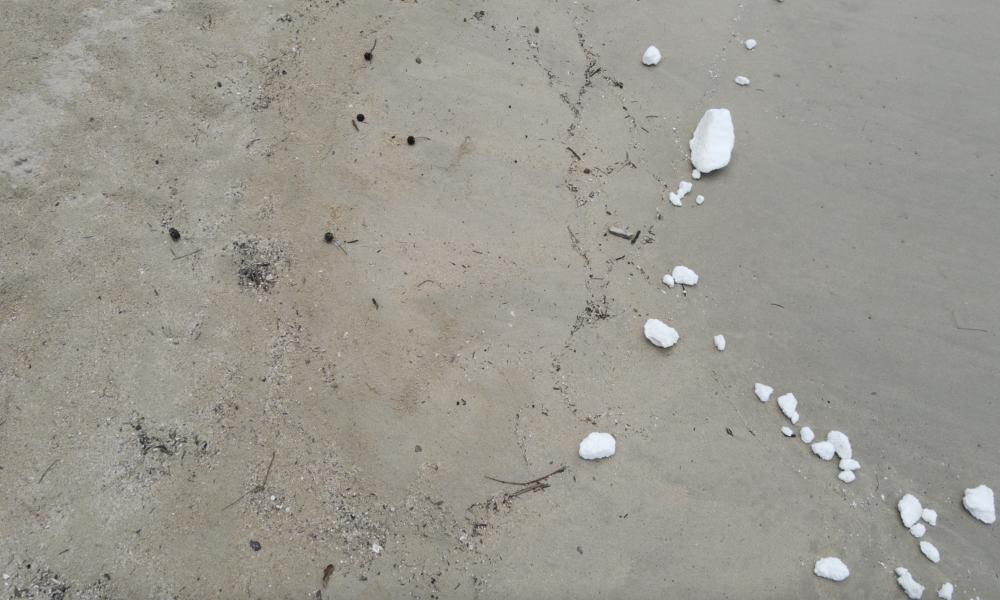styrofoam: (801, 426, 858, 482), (688, 107, 734, 174), (899, 484, 936, 564), (893, 565, 952, 597), (641, 316, 683, 352), (962, 484, 998, 526), (579, 429, 617, 460), (813, 554, 848, 582), (662, 265, 699, 288), (780, 392, 798, 423), (640, 47, 663, 68), (754, 381, 774, 403)
